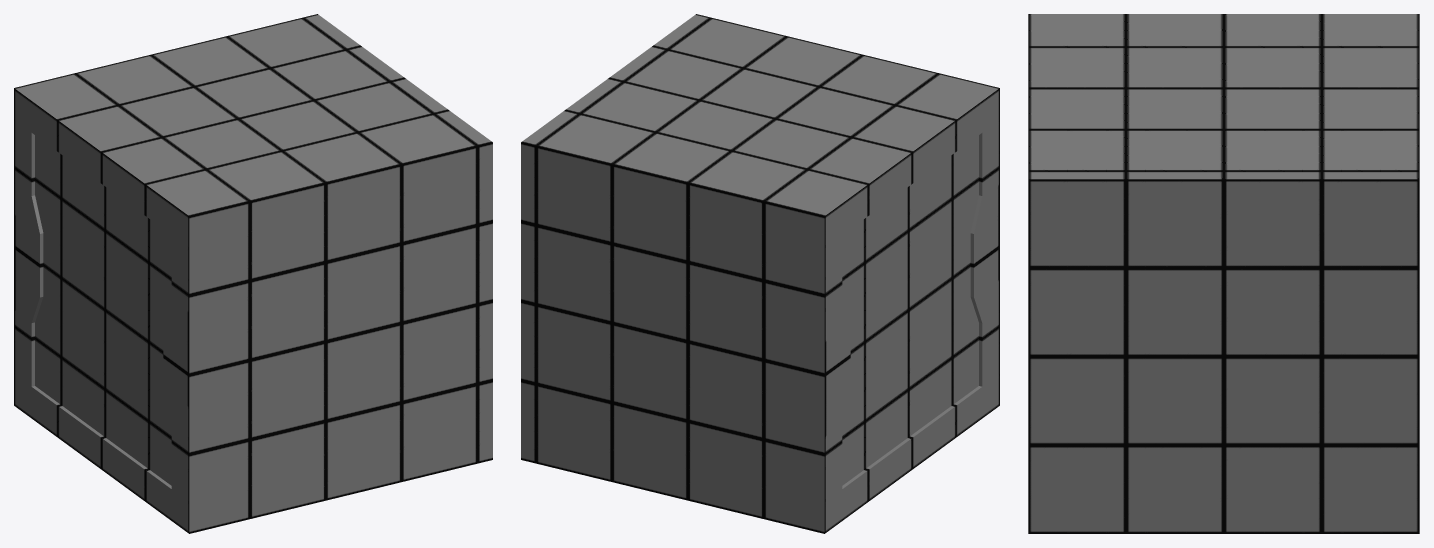
File: mesh_ceiling_tile_v01.fbx
The picture shows the model from 3 angles, left to right: view 1: azimuth 30°, elevation 25°; view 2: azimuth 150°, elevation 25°; view 3: azimuth 270°, elevation 25°; orthographic projection. The views are drawn at different scales.
Visible parts, largest first — view 1: Cube; view 2: Cube; view 3: Cube.
Part boxes in pixels (x1=…): Cube: x1=14, y1=14, x2=492, y2=533; Cube: x1=521, y1=14, x2=999, y2=533; Cube: x1=1028, y1=14, x2=1419, y2=533.
Size of the model in its own units: 4.98 by 4.98 by 4.98.
